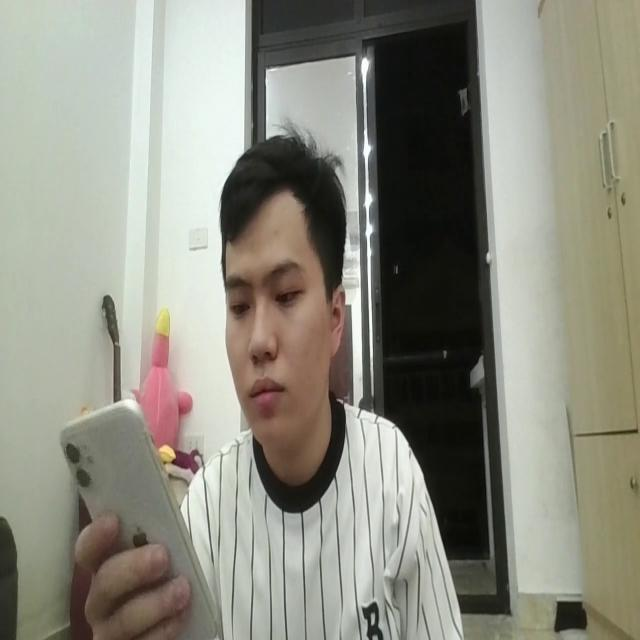phone: (63, 401, 229, 640)
student: (70, 126, 464, 640)
